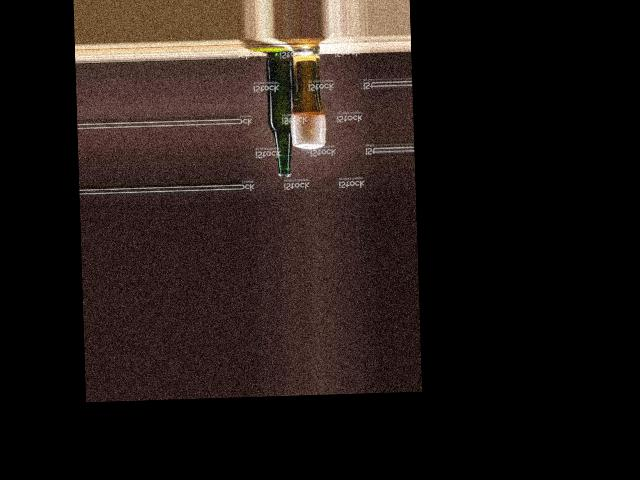beer: (265, 50, 297, 177)
